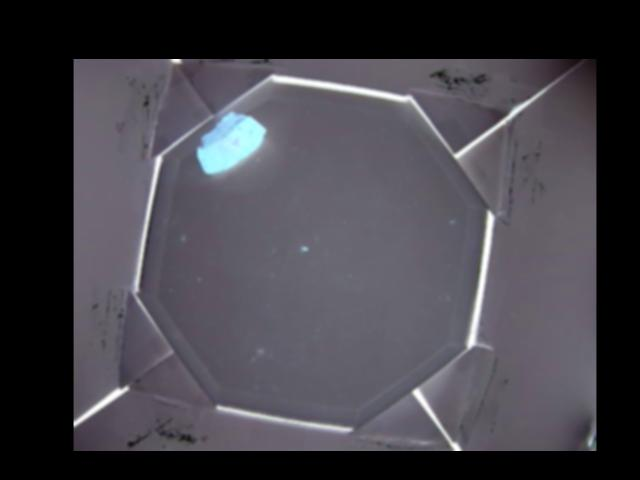Brisk: (194, 107, 269, 176)
